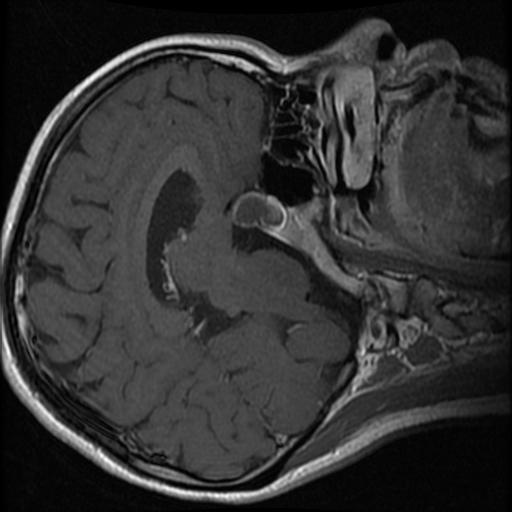pituitary tumour: (233, 191, 286, 233)
